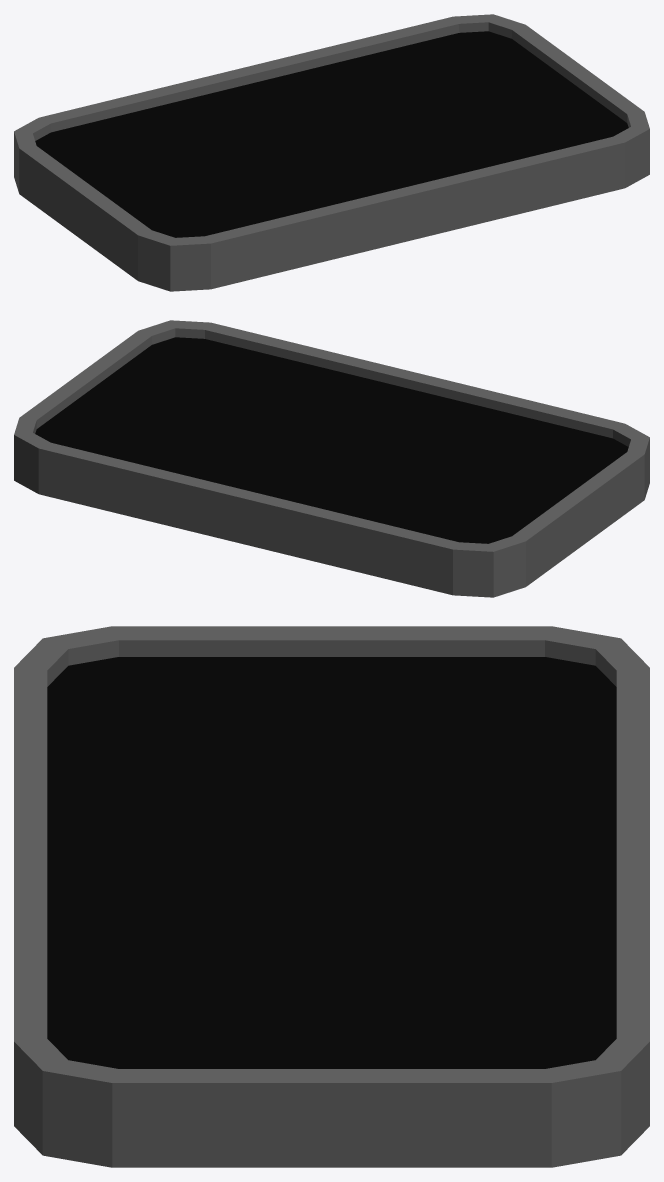
File: phone.glb
3 views of the same model, one above another, from view 1: azimuth 30°, elevation 25°; view 2: azimuth 150°, elevation 25°; view 3: azimuth 270°, elevation 25° (orthographic). The views are drawn at different scales.
Visible parts, largest first — view 1: Cube; view 2: Cube; view 3: Cube.
Part boxes in pixels (box(x1,y1,x2,y2)): Cube: box(14, 14, 649, 291); Cube: box(14, 320, 649, 597); Cube: box(14, 626, 649, 1167).
Bounding box in the file's own units: 3.4 × 0.2938 × 2.
2 materials, 1 textured.
